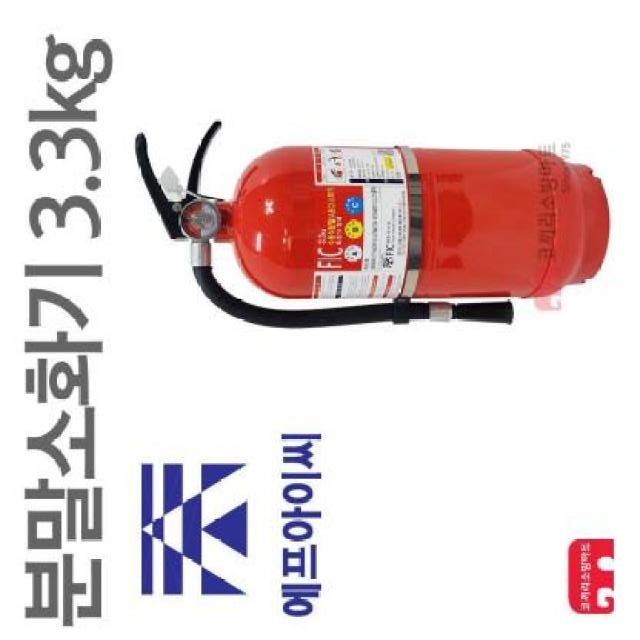fire extinguisher: (134, 120, 611, 329)
